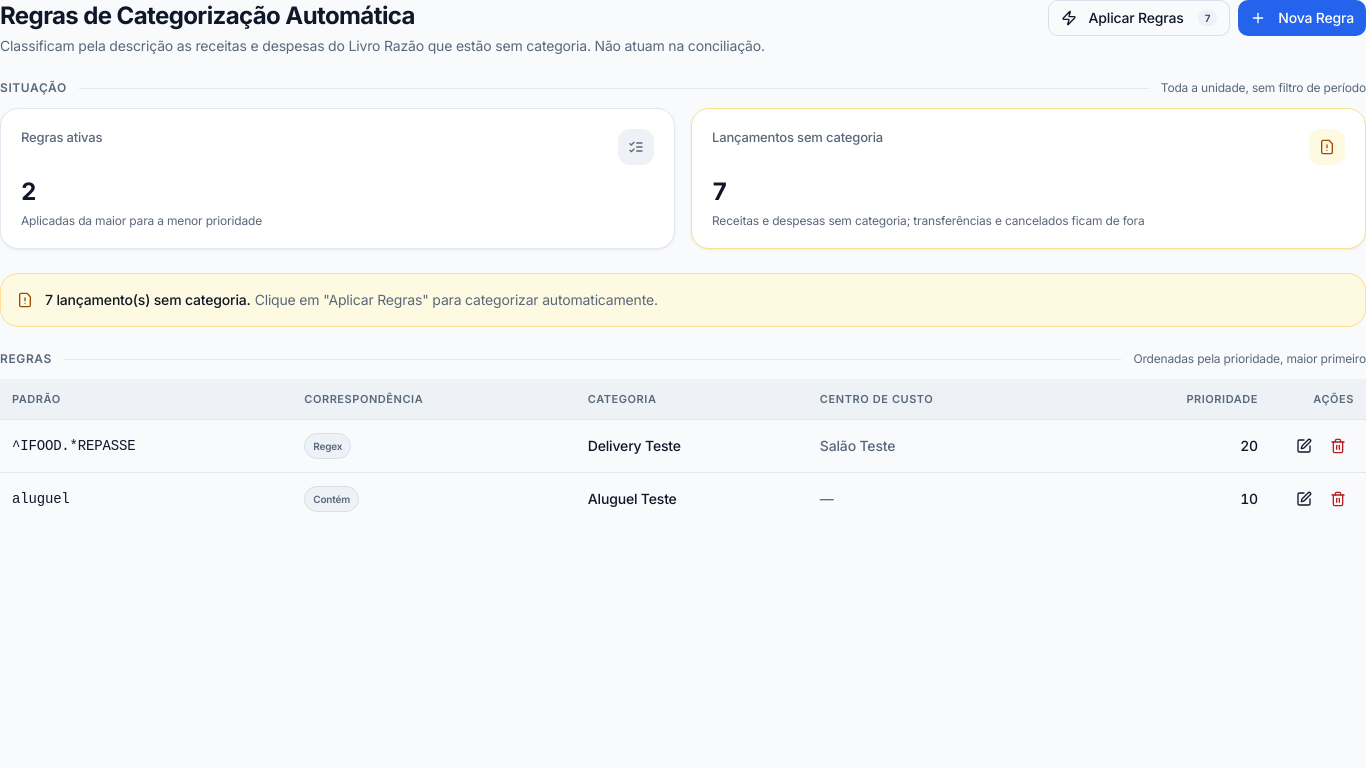
Test case: Categorização (V2) › prévia com mais casamentos do que exemplos mostra o total
Click the button named "Editar regra aluguel": x=1304, y=498 [1288,482,1320,514]
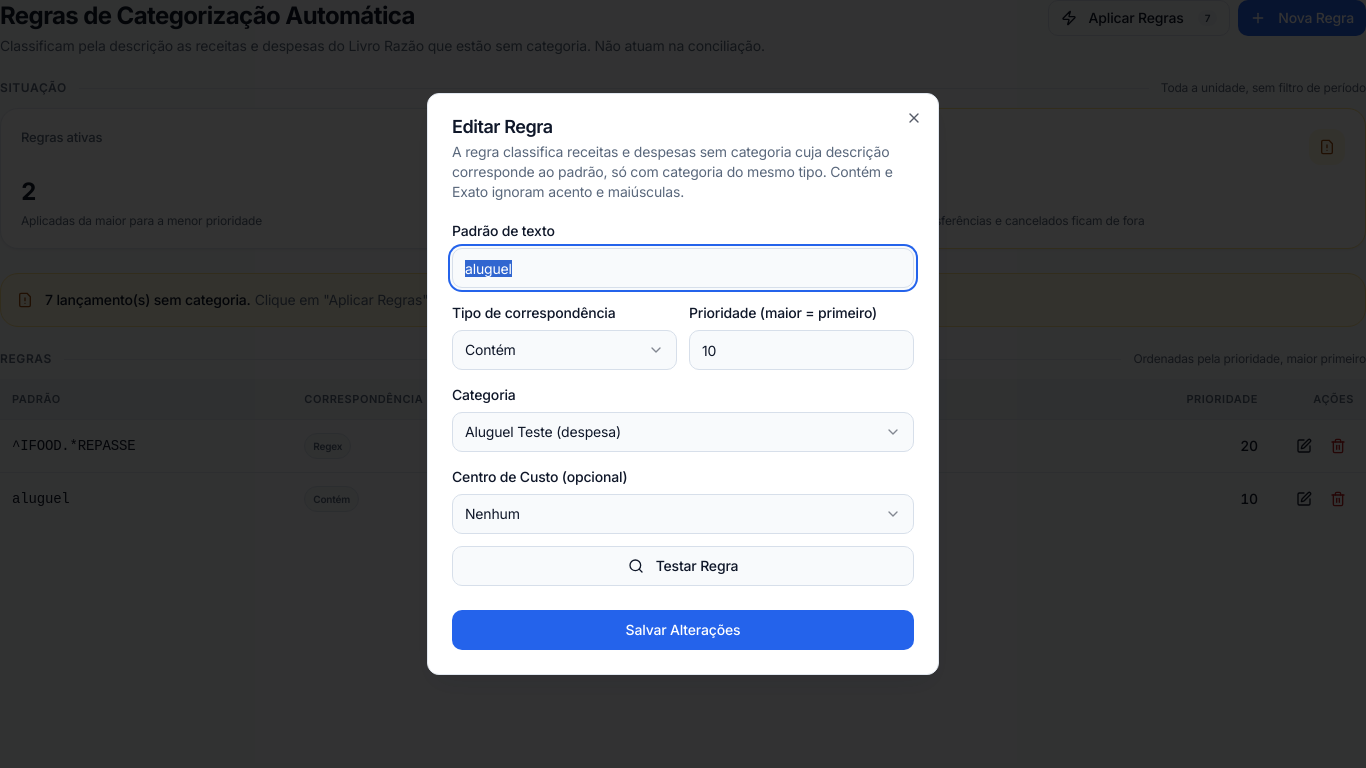
Click the button "Testar Regra": x=683, y=566 [452,546,914,586]
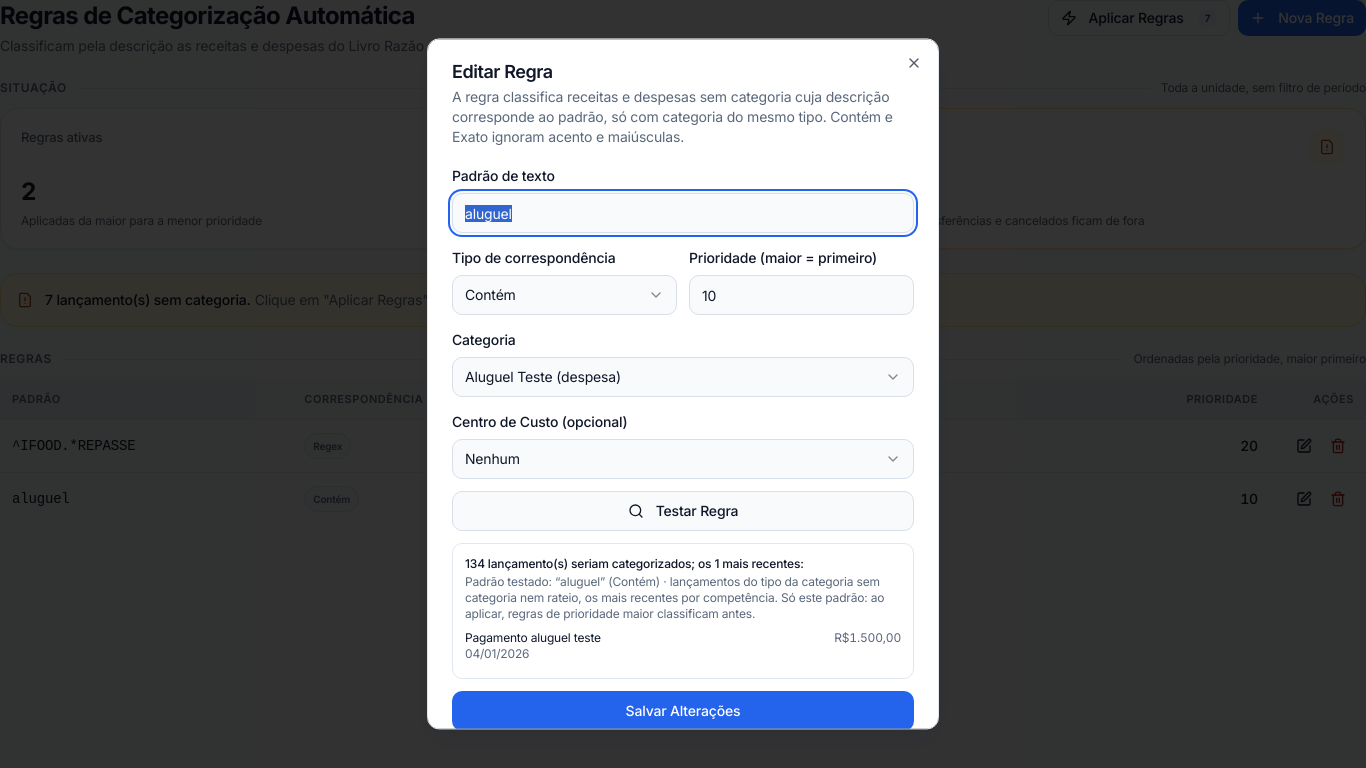
Expected: the text "134 lançamento(s) seriam categorizados; os 1 mais recentes:" is shown, [465,556,804,571]
